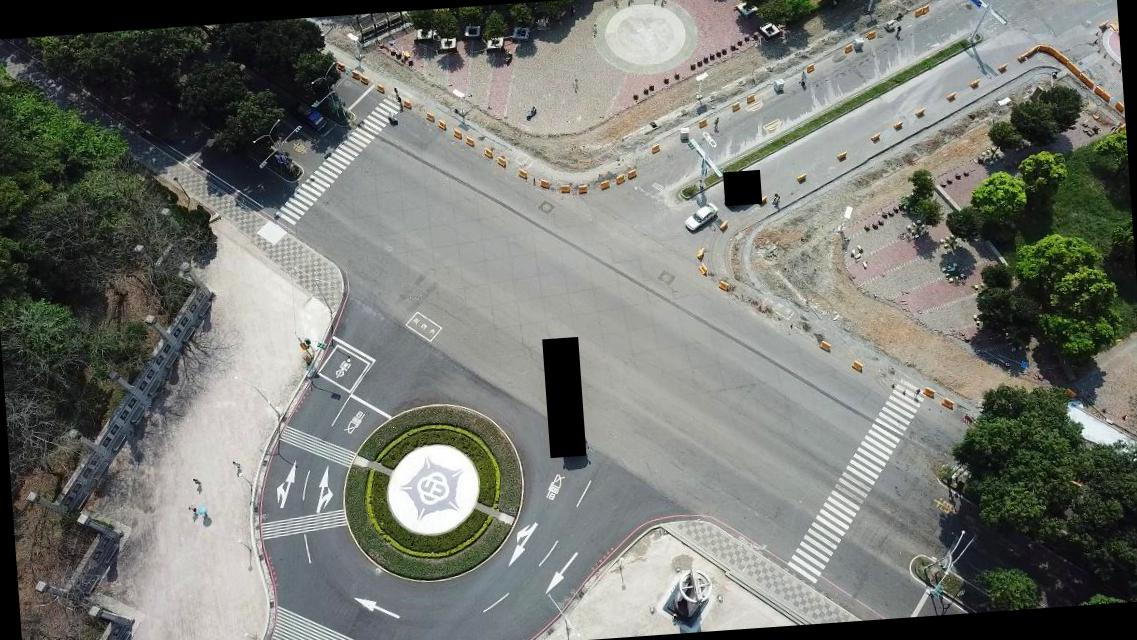vehicle: (684, 200, 718, 230)
